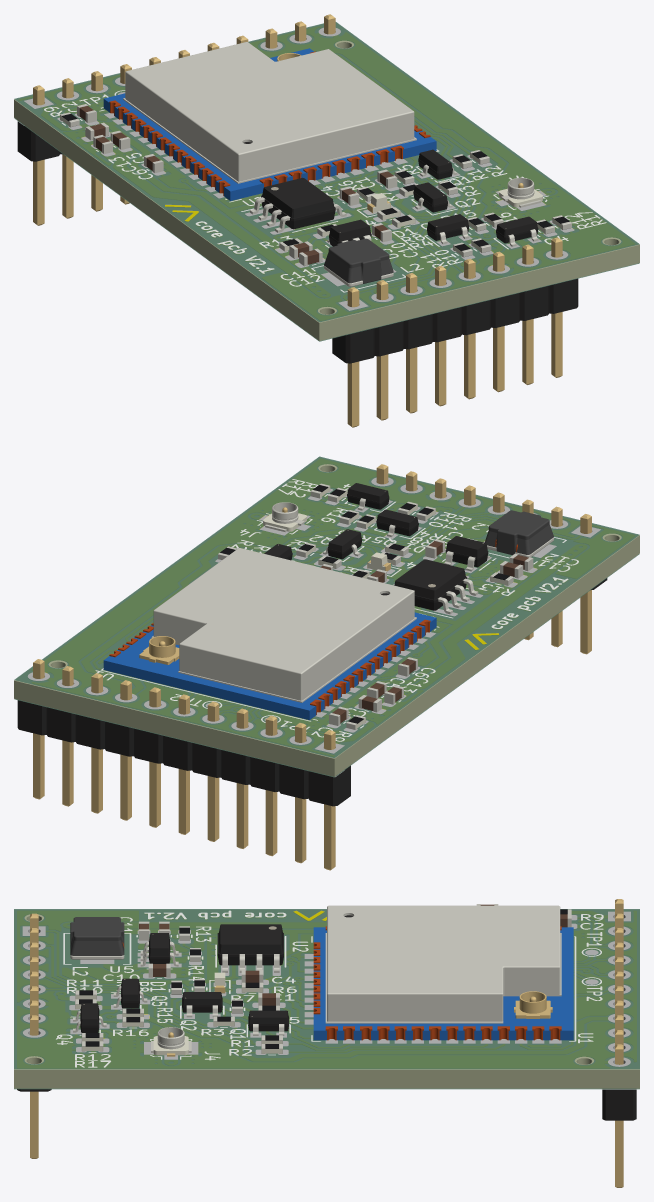
The model's file is board.glb.
3 renders of one model, top to bottom at view 1: azimuth 30°, elevation 25°; view 2: azimuth 150°, elevation 25°; view 3: azimuth 270°, elevation 25°, orthographic. The views are drawn at different scales.
Visible parts, largest first — view 1: board_soldermask (×2), ESP32-WROOM-32U, board_PCB, board_copper, PinHeader_1x08_P254mm_Vertical, board_pad, PinHeader_1x11_P254mm_Vertical, board_silkscreen, SOT-23 (×4), SOIC-8_3.9x4.9mm_P1.27mm, L_Bourns-SRN4018, U.FL_Hirose_U.FL-R-SMT-1_Vertical (+1 smaller); view 2: board_soldermask (×2), ESP32-WROOM-32U, board_copper, PinHeader_1x11_P254mm_Vertical, board_PCB, board_pad, board_silkscreen, PinHeader_1x08_P254mm_Vertical, SOIC-8_3.9x4.9mm_P1.27mm, SOT-23 (×3), L_Bourns-SRN4018, SOT-23-5 (+1 smaller); view 3: board_soldermask (×2), ESP32-WROOM-32U, board_PCB, board_copper, board_pad, board_silkscreen, SOT-23 (×4), PinHeader_1x11_P254mm_Vertical, SOIC-8_3.9x4.9mm_P1.27mm, L_Bourns-SRN4018, PinHeader_1x08_P254mm_Vertical, U.FL_Hirose_U.FL-R-SMT-1_Vertical (+1 smaller).
Part boxes in pixels (x1=…): board_soldermask (×2): x1=14, y1=22, x2=639, y2=341; ESP32-WROOM-32U: x1=103, y1=42, x2=436, y2=200; board_PCB: x1=14, y1=23, x2=639, y2=340; board_copper: x1=19, y1=26, x2=634, y2=320; PinHeader_1x08_P254mm_Vertical: x1=332, y1=237, x2=578, y2=427; board_pad: x1=24, y1=28, x2=574, y2=310; PinHeader_1x11_P254mm_Vertical: x1=17, y1=14, x2=335, y2=225; board_silkscreen: x1=44, y1=90, x2=606, y2=292; SOT-23 (×4): x1=413, y1=149, x2=538, y2=246; SOIC-8_3.9x4.9mm_P1.27mm: x1=250, y1=177, x2=346, y2=232; L_Bourns-SRN4018: x1=324, y1=238, x2=393, y2=286; U.FL_Hirose_U.FL-R-SMT-1_Vertical: x1=499, y1=177, x2=542, y2=207; board_soldermask (×2): x1=14, y1=456, x2=639, y2=777; ESP32-WROOM-32U: x1=103, y1=548, x2=436, y2=719; board_copper: x1=32, y1=459, x2=634, y2=756; PinHeader_1x11_P254mm_Vertical: x1=17, y1=659, x2=350, y2=870; board_PCB: x1=14, y1=457, x2=639, y2=776; board_pad: x1=27, y1=477, x2=600, y2=753; board_silkscreen: x1=95, y1=479, x2=578, y2=741; PinHeader_1x08_P254mm_Vertical: x1=376, y1=464, x2=607, y2=654; SOIC-8_3.9x4.9mm_P1.27mm: x1=394, y1=559, x2=478, y2=614; SOT-23 (×3): x1=323, y1=483, x2=418, y2=559; L_Bourns-SRN4018: x1=485, y1=510, x2=553, y2=557; SOT-23-5: x1=444, y1=536, x2=489, y2=571; board_soldermask (×2): x1=14, y1=909, x2=639, y2=1089; ESP32-WROOM-32U: x1=313, y1=905, x2=573, y2=1040; board_PCB: x1=14, y1=910, x2=639, y2=1088; board_copper: x1=17, y1=911, x2=636, y2=1067; board_pad: x1=22, y1=911, x2=630, y2=1066; board_silkscreen: x1=56, y1=910, x2=603, y2=1067; SOT-23 (×4): x1=73, y1=978, x2=288, y2=1035; PinHeader_1x11_P254mm_Vertical: x1=602, y1=899, x2=636, y2=1187; SOIC-8_3.9x4.9mm_P1.27mm: x1=217, y1=924, x2=283, y2=972; L_Bourns-SRN4018: x1=70, y1=917, x2=124, y2=959; PinHeader_1x08_P254mm_Vertical: x1=17, y1=913, x2=51, y2=1158; U.FL_Hirose_U.FL-R-SMT-1_Vertical: x1=151, y1=1027, x2=191, y2=1056.
Bounding box in the file's own units: 0.028 × 0.0134 × 0.0462.
